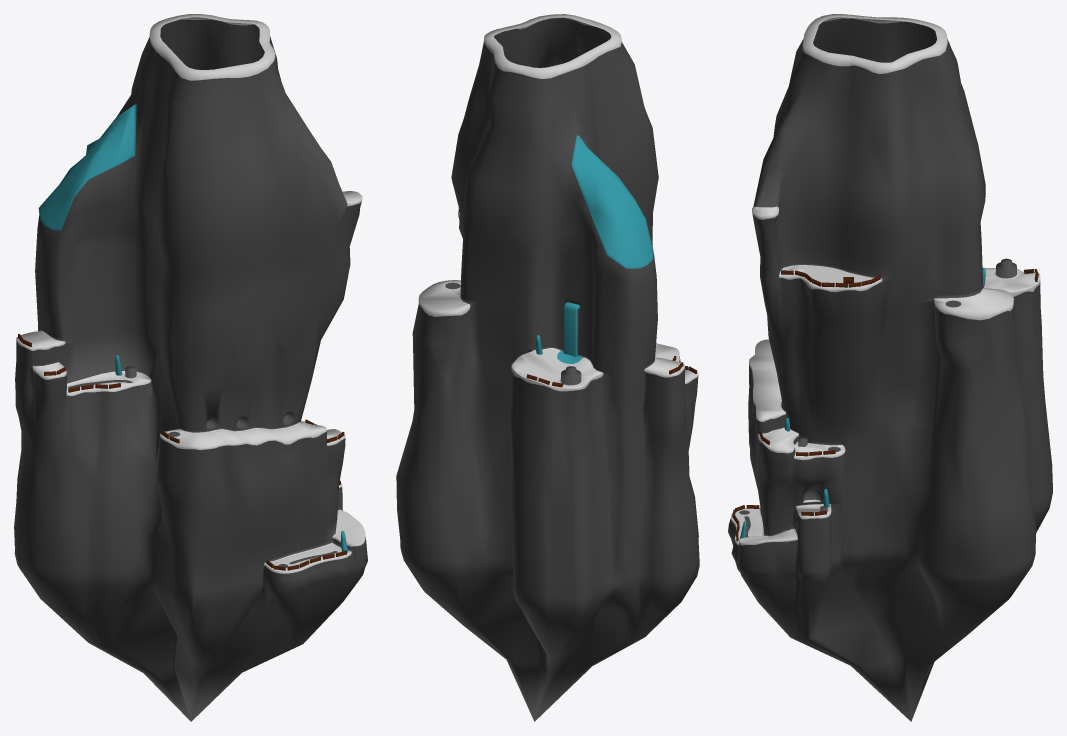
Rendered from FrozenMountainPlanet.obj.
The picture shows the model from 3 angles, left to right: view 1: azimuth 30°, elevation 25°; view 2: azimuth 150°, elevation 25°; view 3: azimuth 270°, elevation 25°; orthographic projection. The views are drawn at different scales.
Visible parts, largest first — view 1: FrozenMountainPlanet_Collision_FrozenMountainPlanet.006; view 2: FrozenMountainPlanet_Collision_FrozenMountainPlanet.006; view 3: FrozenMountainPlanet_Collision_FrozenMountainPlanet.006.
Boxes of the visible parts, x1=… form: FrozenMountainPlanet_Collision_FrozenMountainPlanet.006: x1=14, y1=14, x2=367, y2=721; FrozenMountainPlanet_Collision_FrozenMountainPlanet.006: x1=396, y1=14, x2=699, y2=721; FrozenMountainPlanet_Collision_FrozenMountainPlanet.006: x1=728, y1=14, x2=1052, y2=721.
Size of the model in its own units: 11976 by 29179 by 12546.
